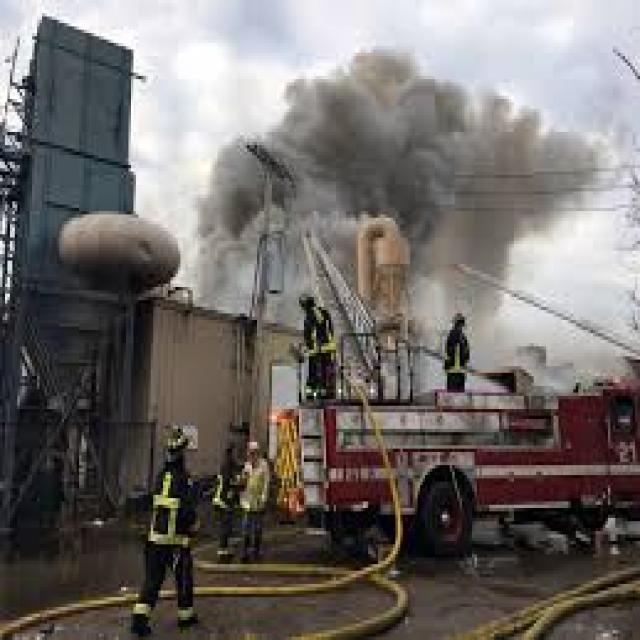Smoke: (181, 41, 624, 332)
